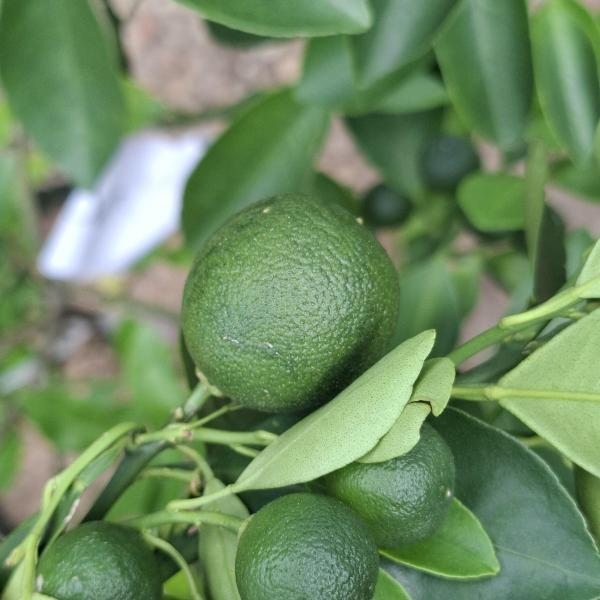Scab: (172, 186, 413, 420)
